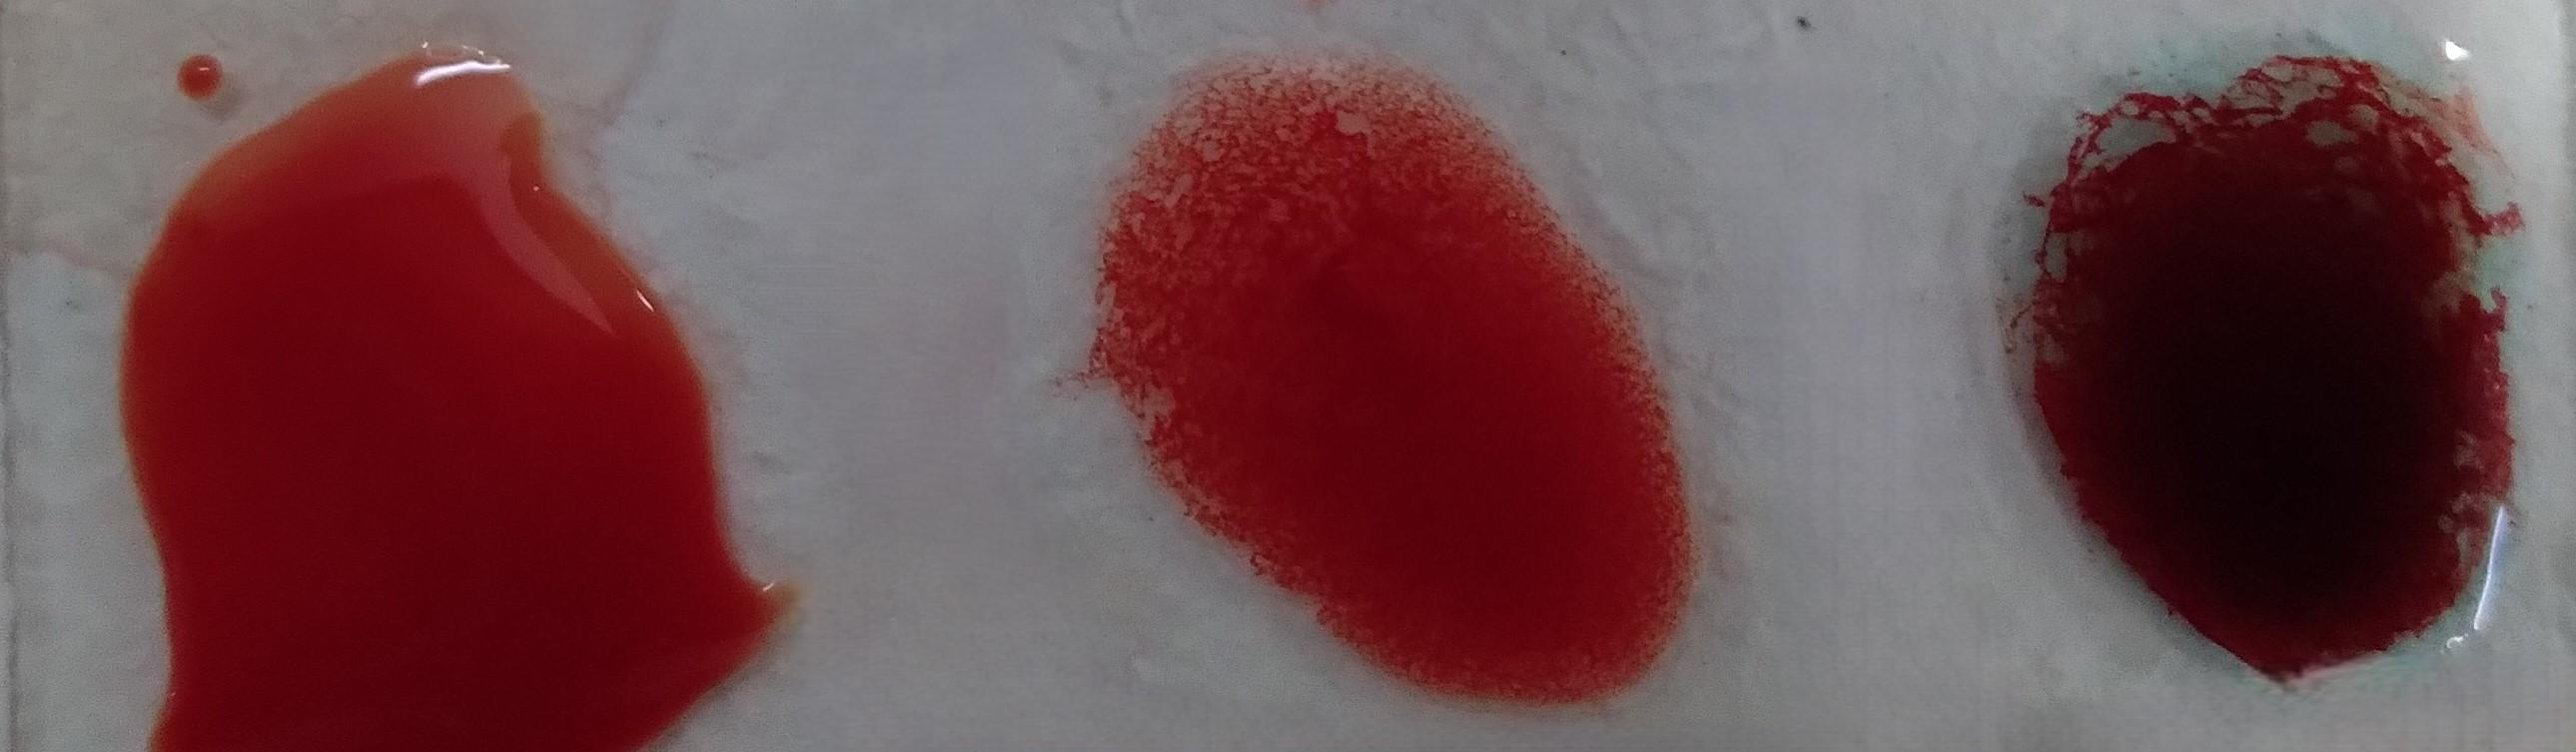A: (2017, 43, 2514, 704)
D: (1089, 53, 1700, 706)
